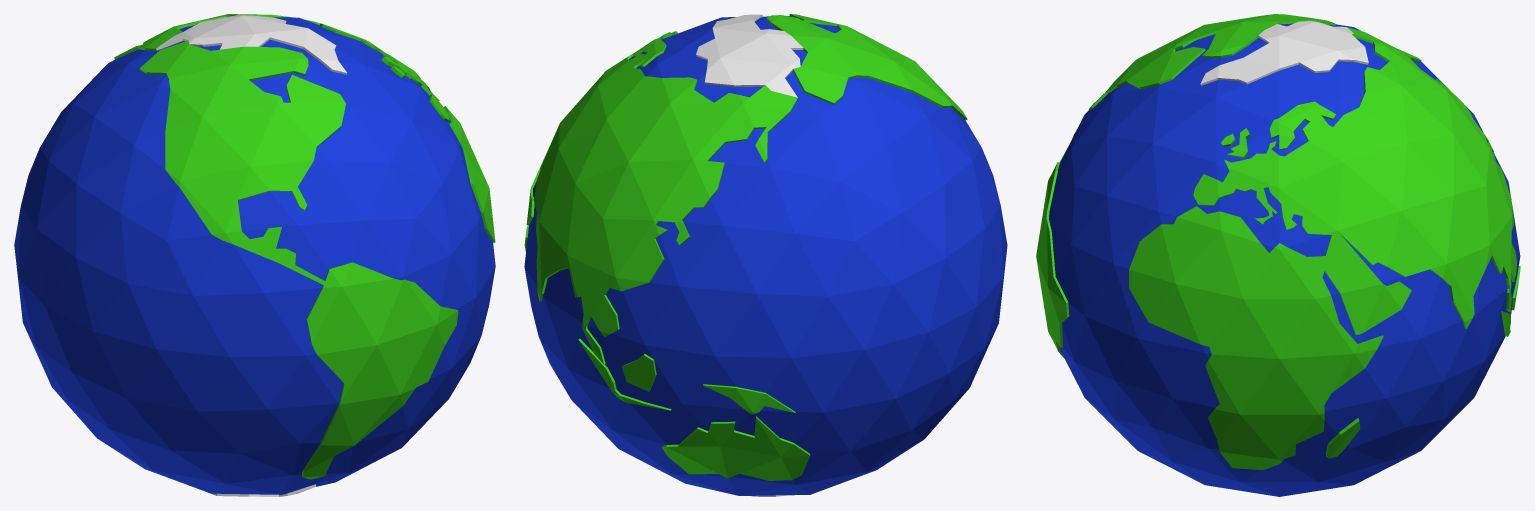
The model's file is earth.glb.
3 renders of one model, left to right at view 1: azimuth 30°, elevation 25°; view 2: azimuth 150°, elevation 25°; view 3: azimuth 270°, elevation 25°, orthographic.
Visible parts, largest first — view 1: Icosphere.001; view 2: Icosphere.001; view 3: Icosphere.001.
Boxes of the visible parts, x1,y1,x2,y2 form: Icosphere.001: (14, 14, 495, 496); Icosphere.001: (524, 14, 1007, 496); Icosphere.001: (1036, 14, 1520, 496).
Bounding box in the file's own units: 2.01 × 2.02 × 2.01.
